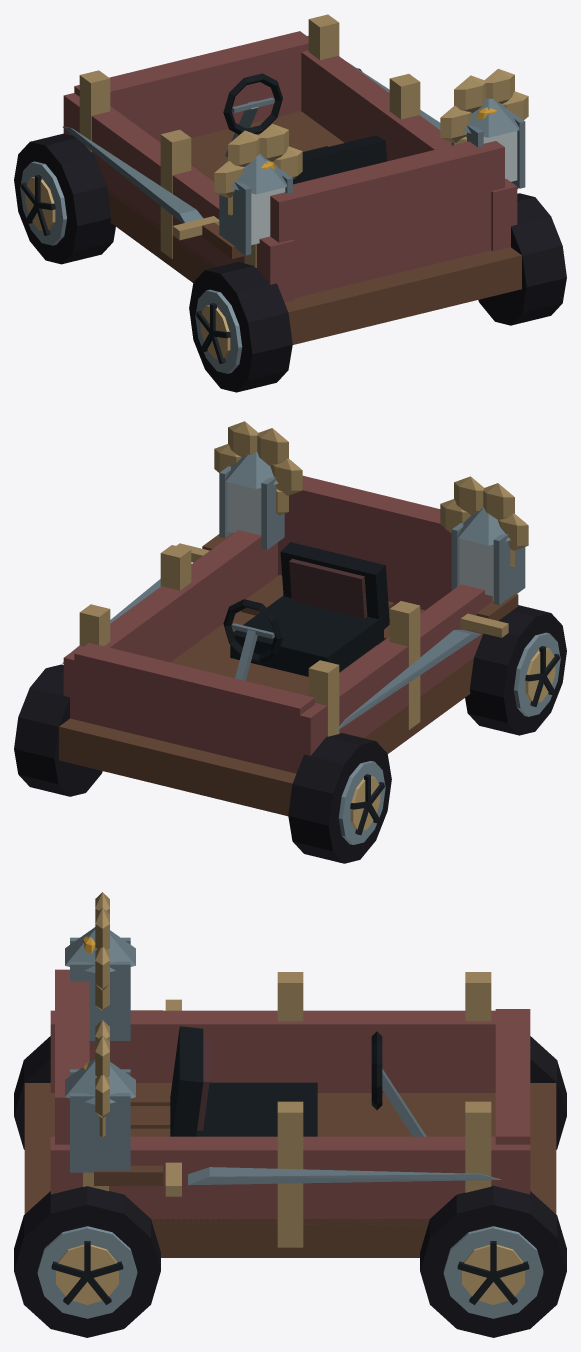
The model's file is kart.glb.
The picture shows the model from 3 angles, top to bottom: view 1: azimuth 30°, elevation 25°; view 2: azimuth 150°, elevation 25°; view 3: azimuth 270°, elevation 25°; orthographic projection. The views are drawn at different scales.
Visible parts, largest first — view 1: identity-wagon-wagon-timber-coach, wheel-rear-left, wheel-front-left, identity-wagon-motif-lanterns, identity-wagon-motif-flowers, wheel-rear-right, identity-wagon-driver-cockpit, identity-wagon-motif-swords; view 2: identity-wagon-wagon-timber-coach, identity-wagon-driver-cockpit, wheel-front-left, wheel-rear-left, identity-wagon-motif-lanterns, identity-wagon-motif-flowers, wheel-front-right, identity-wagon-motif-swords; view 3: identity-wagon-wagon-timber-coach, wheel-front-right, wheel-rear-right, identity-wagon-driver-cockpit, identity-wagon-motif-lanterns, identity-wagon-motif-swords, identity-wagon-motif-flowers, wheel-front-left, wheel-rear-left.
Part boxes in pixels (left/top/right/bottom): identity-wagon-wagon-timber-coach: left=63, top=14, right=521, bottom=344; wheel-rear-left: left=189, top=261, right=292, bottom=392; wheel-front-left: left=14, top=133, right=115, bottom=264; identity-wagon-motif-lanterns: left=219, top=98, right=525, bottom=255; identity-wagon-motif-flowers: left=214, top=68, right=528, bottom=215; wheel-rear-right: left=478, top=193, right=566, bottom=325; identity-wagon-driver-cockpit: left=223, top=73, right=386, bottom=184; identity-wagon-motif-swords: left=62, top=62, right=518, bottom=258; identity-wagon-wagon-timber-coach: left=59, top=475, right=493, bottom=816; identity-wagon-driver-cockpit: left=223, top=542, right=389, bottom=680; wheel-front-left: left=288, top=733, right=391, bottom=863; wheel-rear-left: left=465, top=605, right=566, bottom=735; identity-wagon-motif-lanterns: left=219, top=452, right=525, bottom=604; identity-wagon-motif-flowers: left=214, top=421, right=528, bottom=568; wheel-front-right: left=14, top=664, right=102, bottom=796; identity-wagon-motif-swords: left=62, top=533, right=518, bottom=730; identity-wagon-wagon-timber-coach: left=24, top=969, right=556, bottom=1257; wheel-front-right: left=420, top=1185, right=566, bottom=1337; wheel-rear-right: left=14, top=1186, right=160, bottom=1337; identity-wagon-driver-cockpit: left=170, top=1026, right=426, bottom=1136; identity-wagon-motif-lanterns: left=65, top=927, right=135, bottom=1172; identity-wagon-motif-swords: left=94, top=999, right=500, bottom=1196; identity-wagon-motif-flowers: left=83, top=892, right=109, bottom=1137; wheel-front-left: left=530, top=1036, right=566, bottom=1149; wheel-rear-left: left=14, top=1036, right=50, bottom=1149.
Size of the model in its own units: 2.07 by 1.46 by 2.56.
